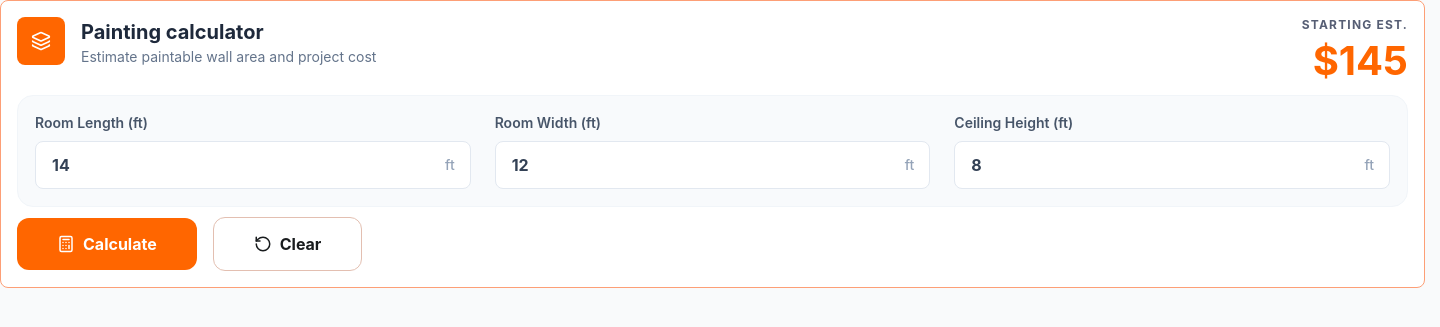
PaintingCalculator › shows inline errors when calculating with empty dimensions
Clear the number field labelled "Room Length (ft)": [253, 165] box 35,141 -> 471,189
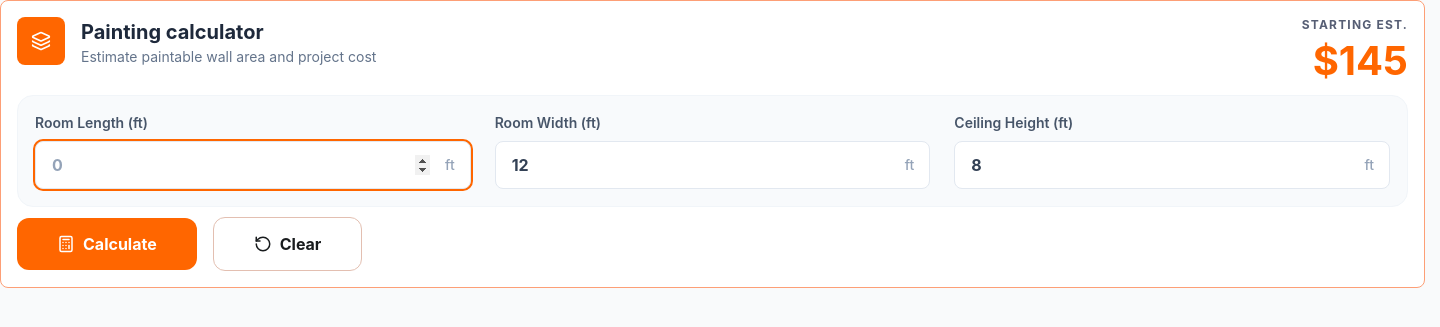
Clear the number field labelled "Room Width (ft)": [713, 165] box 495,141 -> 930,189
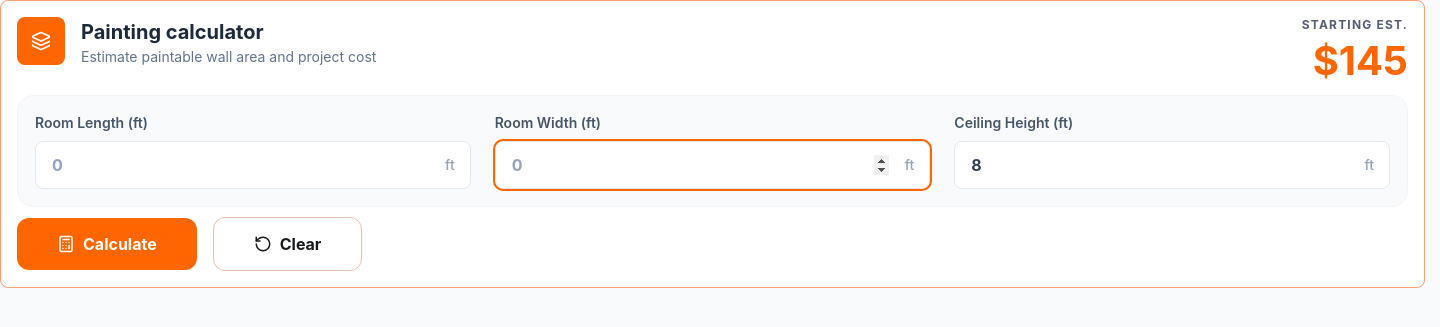
Clear the number field labelled "Ceiling Height (ft)": [1172, 165] box 954,141 -> 1390,189
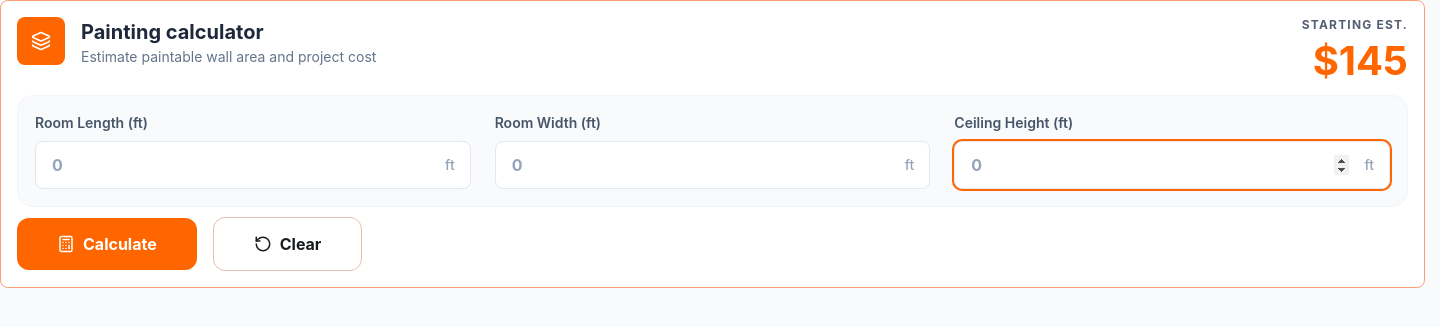
Click the button "Calculate": [107, 244] box 17,218 -> 197,270
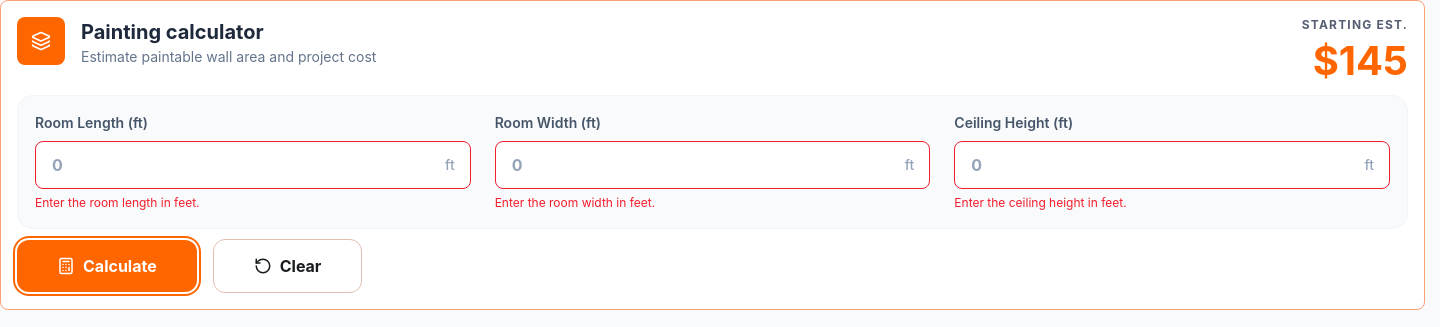
Result: the text "Enter the room length in feet." is shown at 35,195 -> 200,210
Result: the text "Enter the room width in feet." is shown at 495,195 -> 655,210
Result: the text "Enter the ceiling height in feet." is shown at 954,195 -> 1127,210
